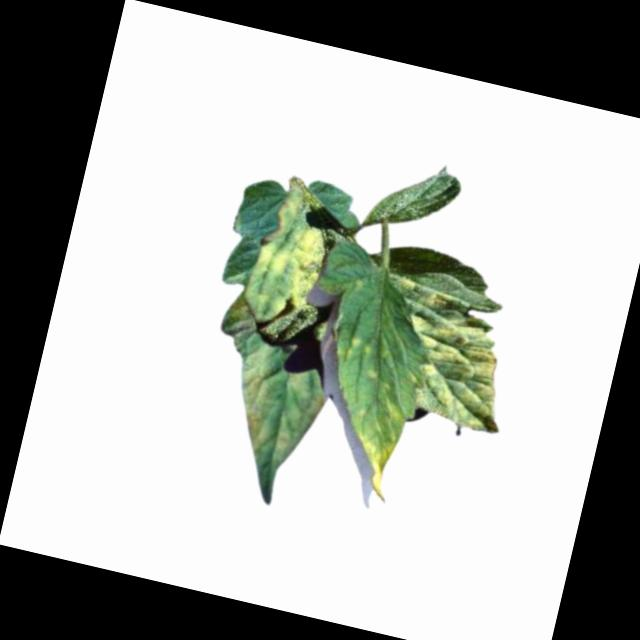Leaf_Mold: (386, 284, 526, 434), (221, 338, 335, 467), (246, 179, 339, 320), (335, 397, 409, 503)
